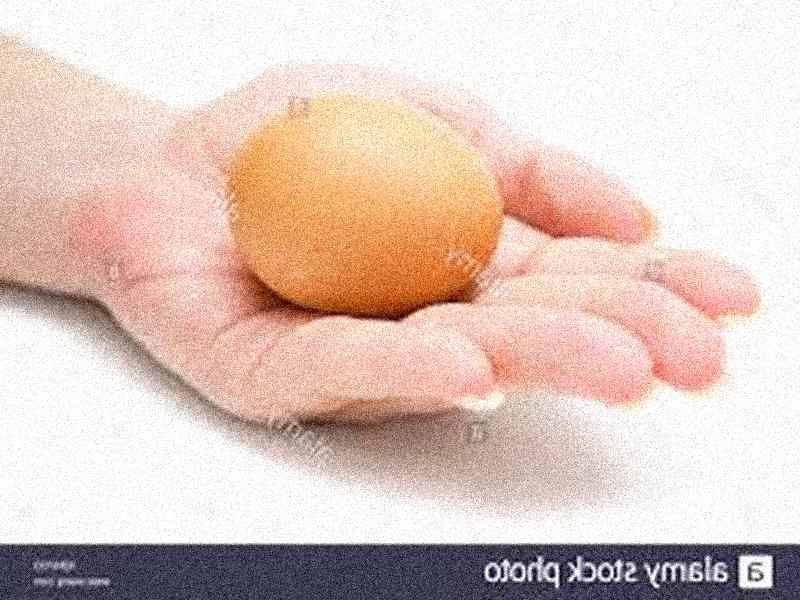Eggs: (225, 91, 500, 312)
